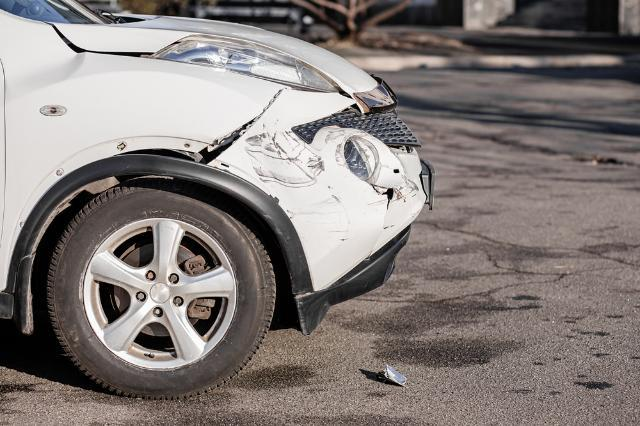crack: (371, 184, 396, 231)
dislocated part: (194, 87, 294, 171)
scratch: (247, 133, 322, 185), (288, 191, 345, 221), (327, 127, 356, 167), (395, 174, 418, 202)
